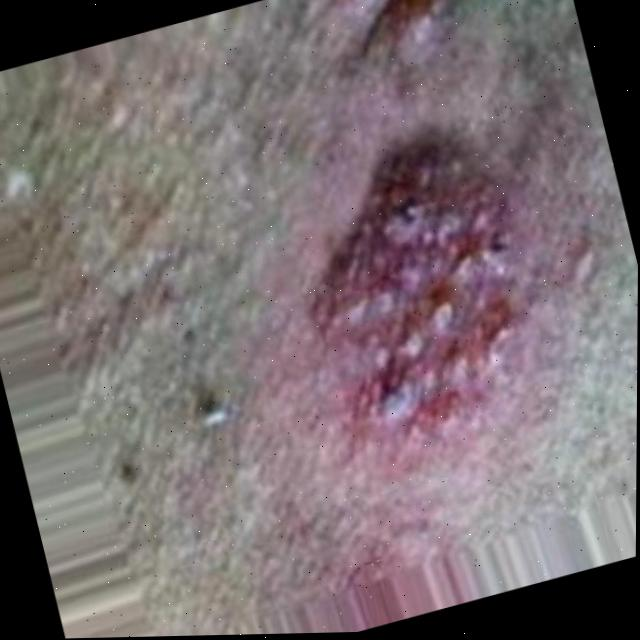Shingles: (278, 113, 561, 474)
